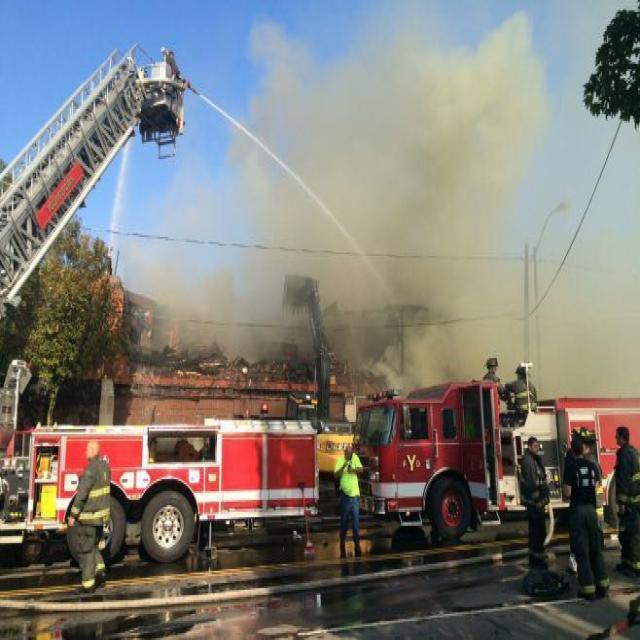Smoke: (284, 99, 503, 362)
